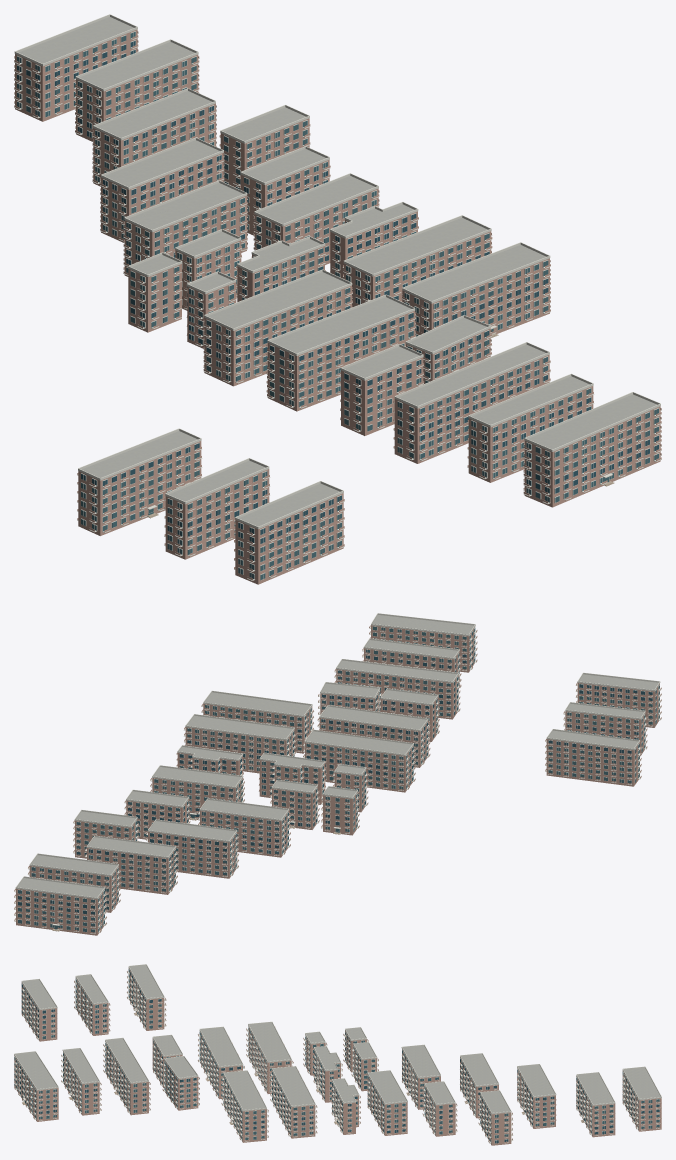
The model's file is chunk-n1-p0.glb.
3 renders of one model, top to bottom at view 1: azimuth 30°, elevation 25°; view 2: azimuth 150°, elevation 25°; view 3: azimuth 270°, elevation 25°, orthographic. The views are drawn at different scales.
Parts seen in each view (by area): view 1: chunk-n1-p0; view 2: chunk-n1-p0; view 3: chunk-n1-p0.
Boxes of the visible parts, <box> form: chunk-n1-p0: <box>14,14,661,584</box>; chunk-n1-p0: <box>14,613,661,935</box>; chunk-n1-p0: <box>14,964,661,1145</box>.
Size of the model in its own units: 214 by 27.64 by 378.
6 materials, 2 textured.
